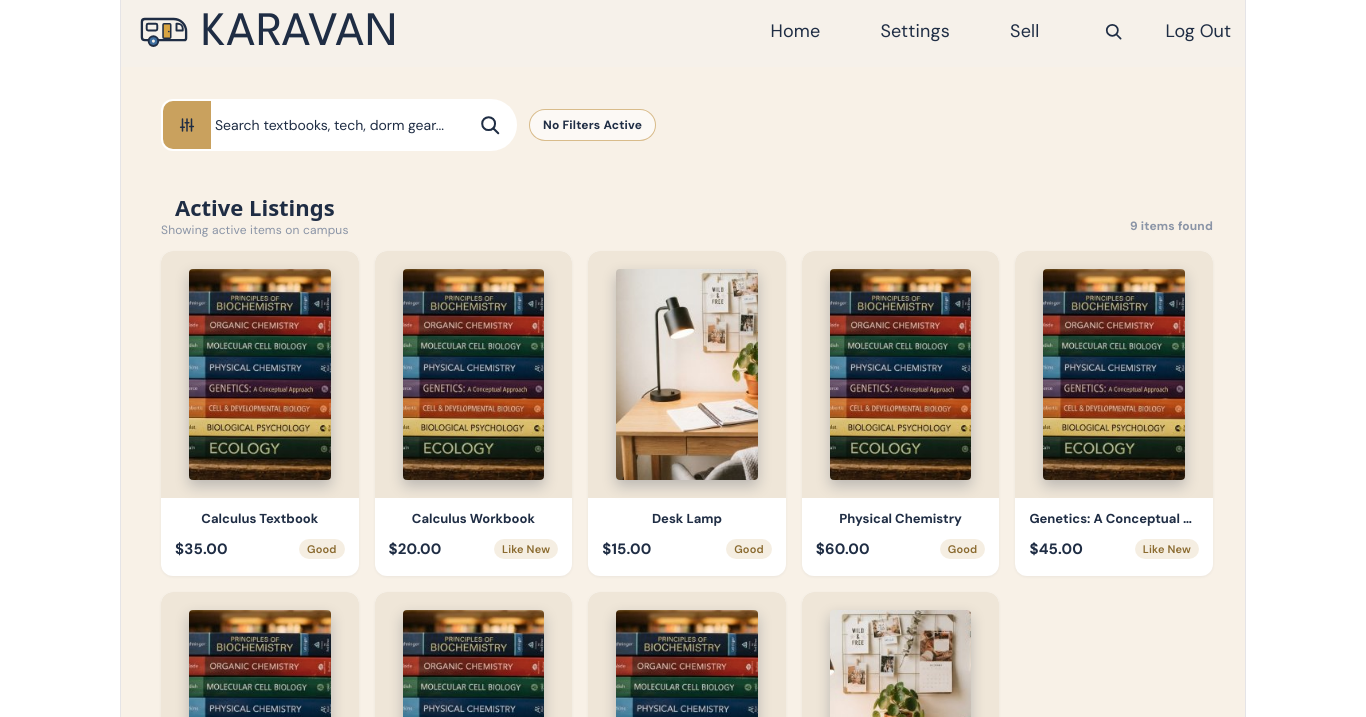
ProductSearch category filtering › clears categories without clearing the product-name query
This screenshot has width=1366, height=717.
Type "Calculus" into the field named "Search products" at (345, 125), box x1=211 y1=101 x2=479 y2=149
Wait 350 ms
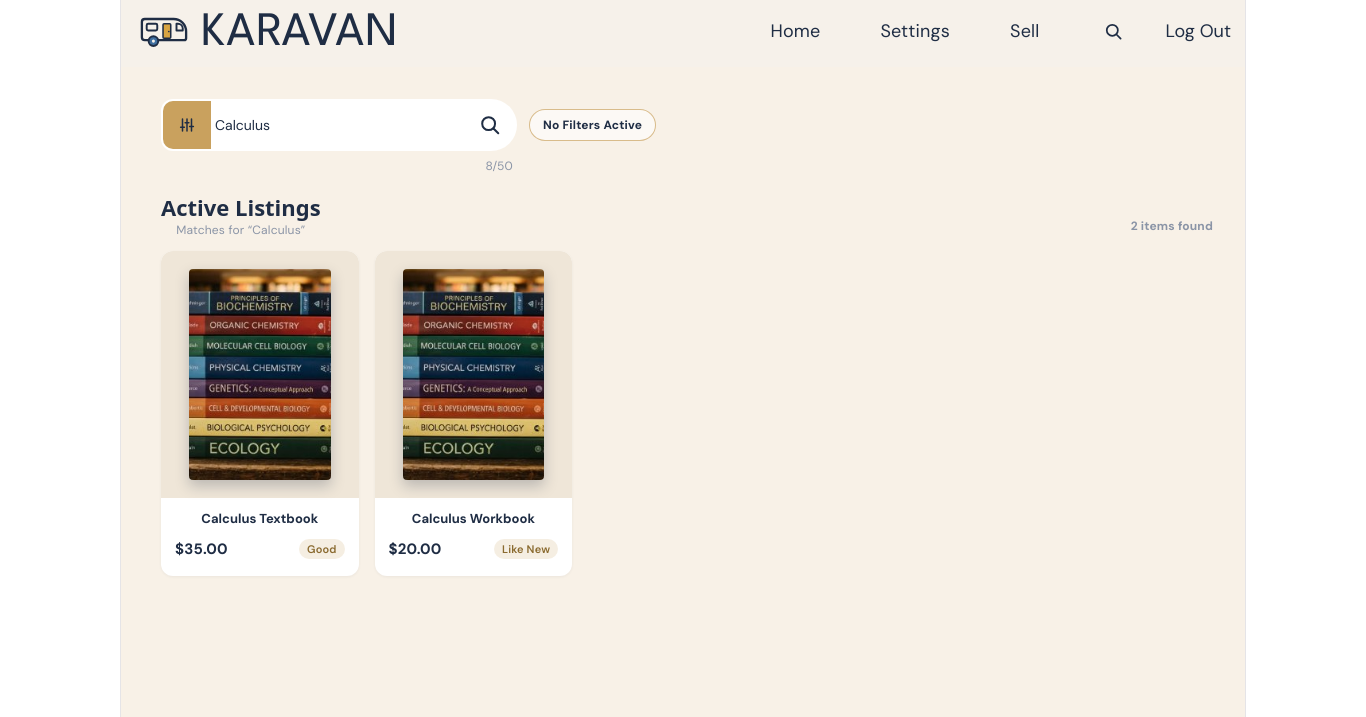
Click the button named "Open filters" at (187, 125), box x1=163 y1=101 x2=211 y2=149
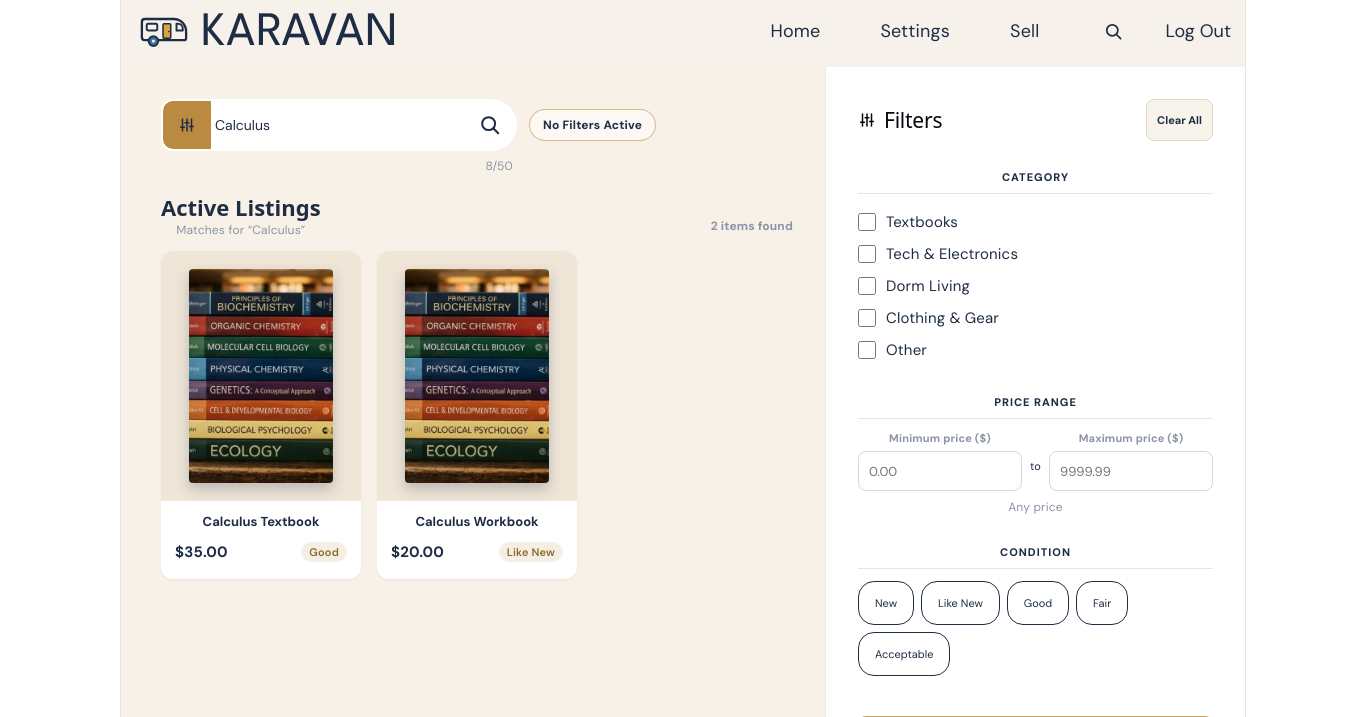
Click the checkbox labelled "Dorm Living" at (867, 286), box x1=858 y1=277 x2=876 y2=295
(page scrolled)
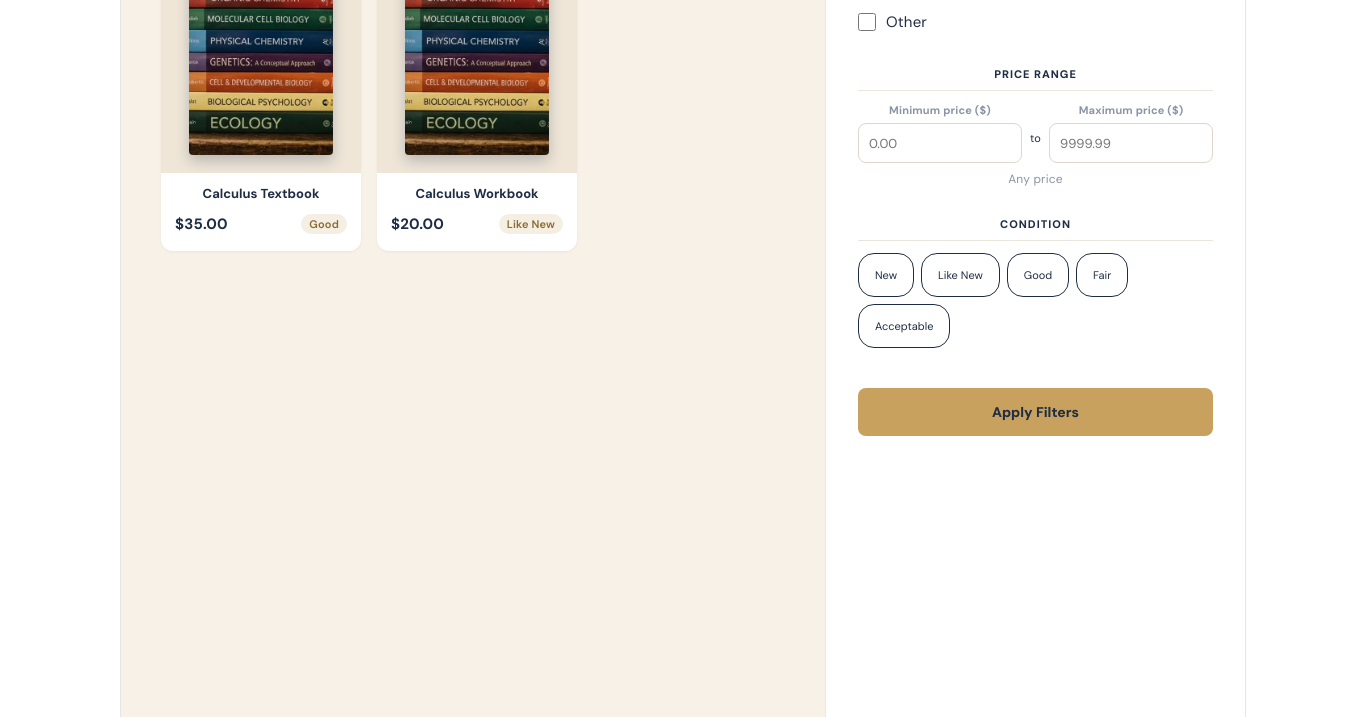
Click the button "Apply Filters" at (1036, 412), box x1=858 y1=388 x2=1213 y2=436
Wait 350 ms
(page scrolled)
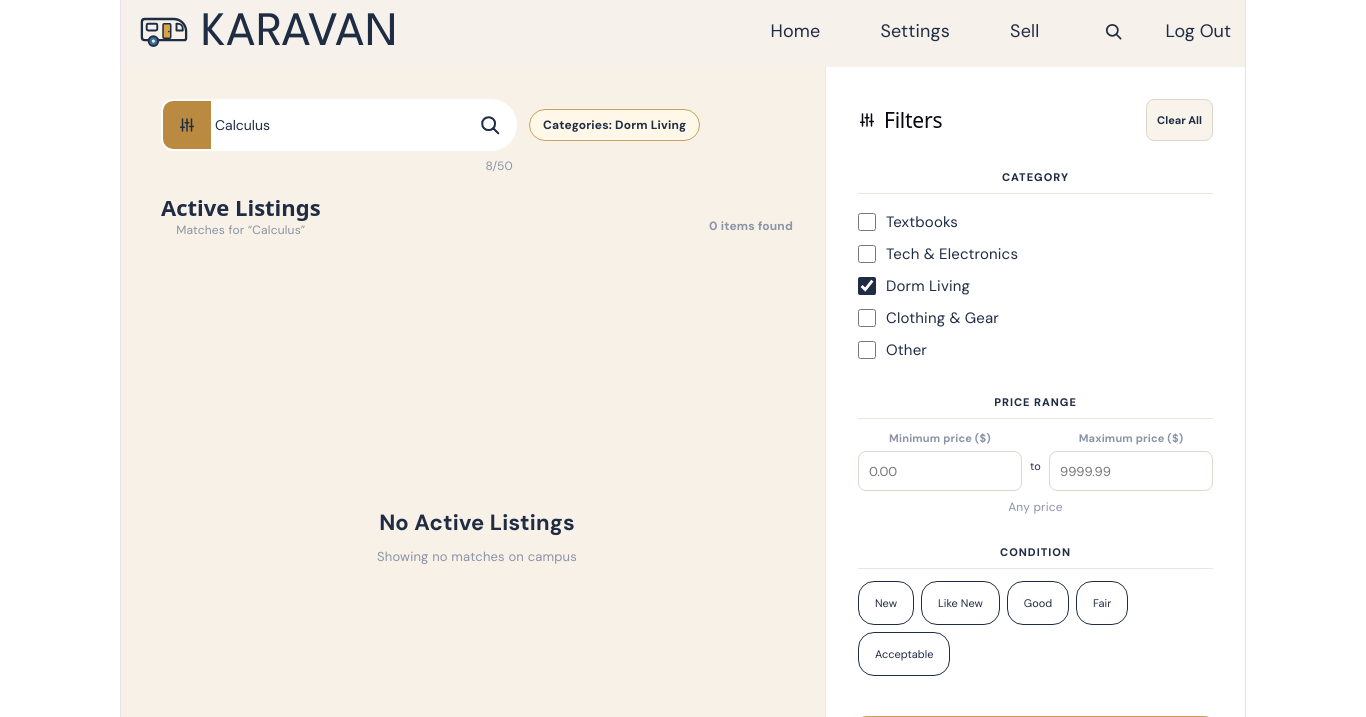
Click the button "Clear All" at (1180, 120), box x1=1146 y1=99 x2=1213 y2=141
Wait 350 ms
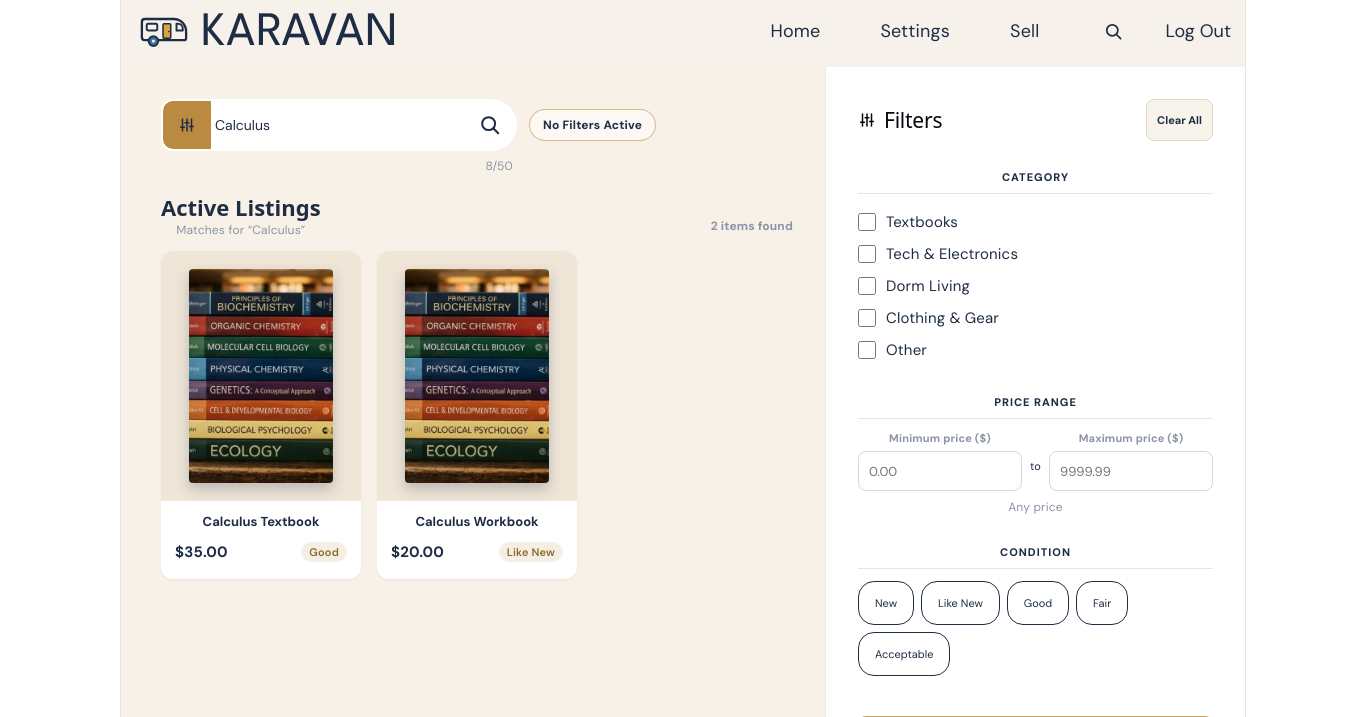
Expected: the text "No Filters Active" is shown, x1=529 y1=109 x2=656 y2=141
Expected: the link "Calculus Textbook" is shown, x1=202 y1=513 x2=319 y2=530
Expected: the link "Calculus Workbook" is shown, x1=415 y1=513 x2=539 y2=530
